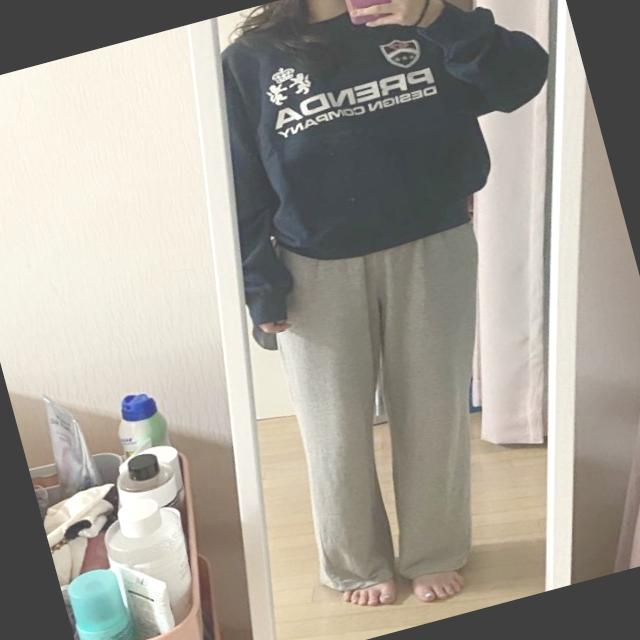mtm: (175, 0, 599, 329)
trainingpants: (238, 190, 559, 600)
